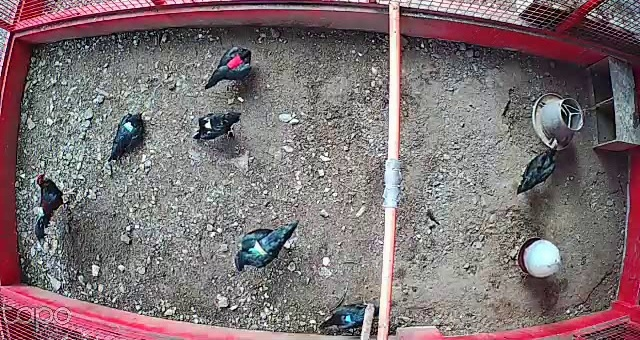Chicken: (232, 217, 301, 275), (201, 45, 252, 92), (514, 144, 561, 194), (108, 108, 149, 162), (189, 107, 245, 144), (317, 300, 384, 330)
Rooster: (35, 173, 77, 242)
Saddle_Color_Blue: (344, 314, 352, 321)
Saddle_Color_Red: (226, 54, 243, 70)
Saddle_Color_Yellow: (203, 117, 213, 130)
Saddle_Color_YellowGreen: (247, 240, 267, 259)
